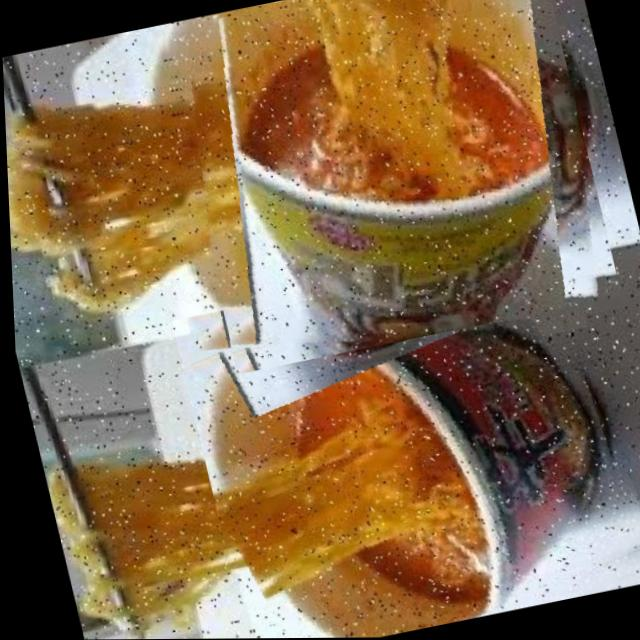Miscellaneous: (165, 238, 640, 639), (153, 0, 621, 374)
